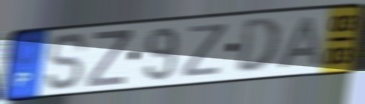9: (141, 25, 181, 83)
A: (275, 14, 324, 71)
D: (233, 15, 283, 76)
S: (45, 31, 89, 93)
Z: (84, 28, 134, 90), (179, 22, 231, 80)
